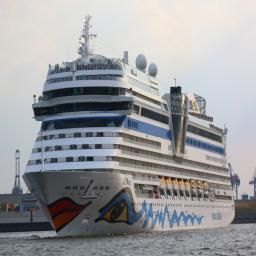cruises: (21, 14, 239, 242)
